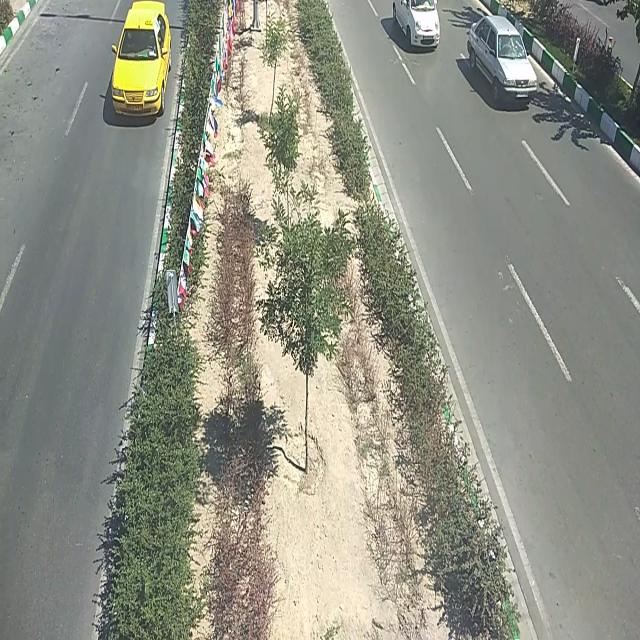car: (466, 9, 538, 109), (109, 5, 171, 116), (392, 0, 440, 53)
